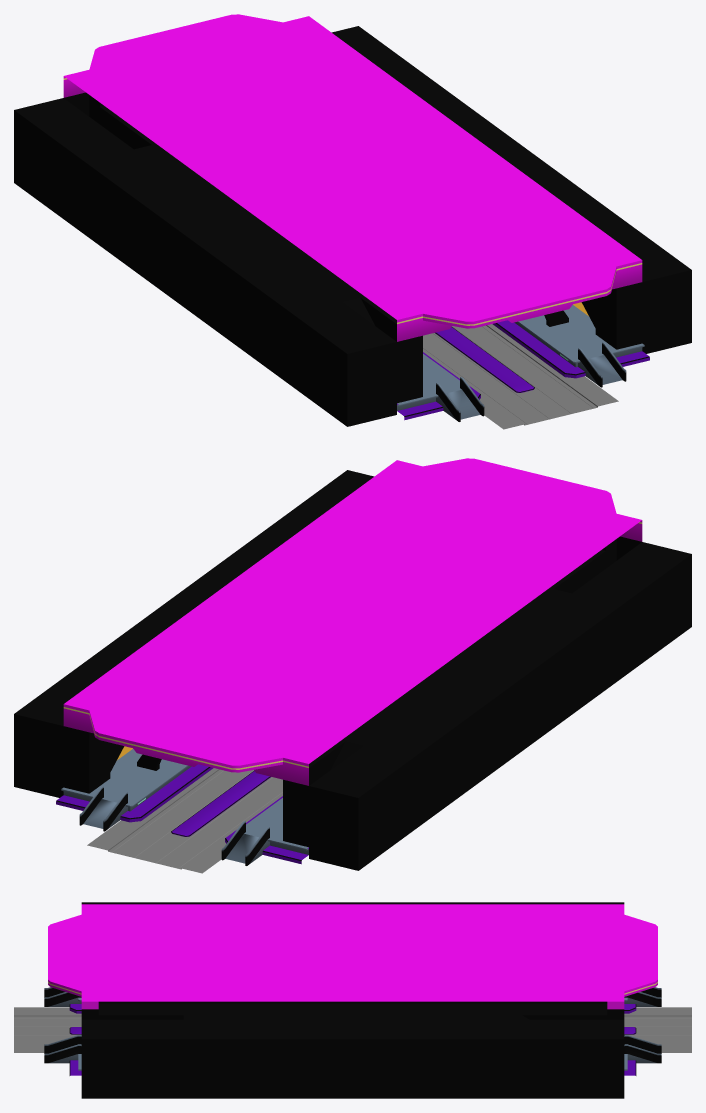
The model's file is Estructura_Columnas_Comercio.fbx.
The picture shows the model from 3 angles, top to bottom: view 1: azimuth 30°, elevation 25°; view 2: azimuth 150°, elevation 25°; view 3: azimuth 270°, elevation 25°; orthographic projection. The views are drawn at different scales.
Parts seen in each view (by area): view 1: Estructura_Columnas_Comercio, Estructura_Columnas_Tramo_Comercio; view 2: Estructura_Columnas_Comercio, Estructura_Columnas_Tramo_Comercio; view 3: Estructura_Columnas_Comercio, Estructura_Columnas_Tramo_Comercio.
Boxes of the visible parts, bbox=[...] form: Estructura_Columnas_Comercio: bbox=[14, 14, 691, 426]; Estructura_Columnas_Tramo_Comercio: bbox=[423, 324, 618, 429]; Estructura_Columnas_Comercio: bbox=[14, 458, 691, 870]; Estructura_Columnas_Tramo_Comercio: bbox=[87, 768, 282, 873]; Estructura_Columnas_Comercio: bbox=[44, 902, 661, 1098]; Estructura_Columnas_Tramo_Comercio: bbox=[14, 1007, 691, 1052].
Size of the model in its own units: 4773 by 10000 by 1270.
